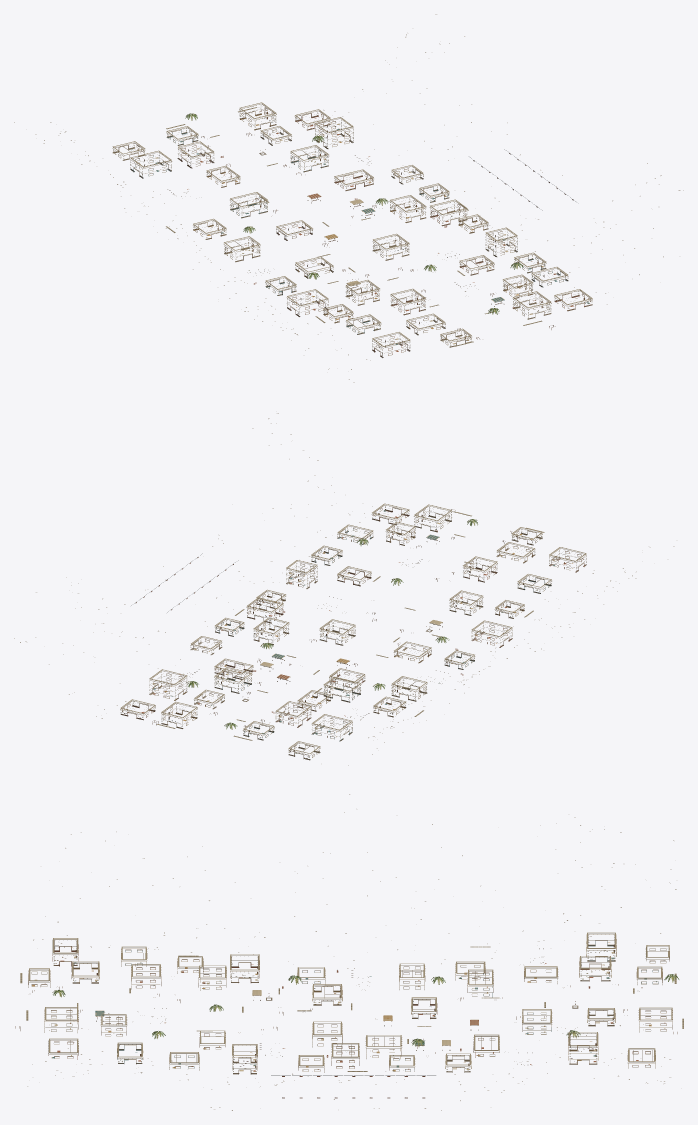
The model's file is detail.glb.
3 renders of one model, top to bottom at view 1: azimuth 30°, elevation 25°; view 2: azimuth 150°, elevation 25°; view 3: azimuth 270°, elevation 25°, orthographic. The views are drawn at different scales.
Visible parts, largest first — view 1: Detail 00 -2 concrete, Detail -1 -2 concrete, Detail -1 01 concrete, Detail -1 00 concrete, Detail -1 02 concrete, Detail -1 -1 concrete, Detail 00 02 concrete, Detail 00 00 concrete, Detail 00 -3 concrete, Detail 01 00 concrete, Detail 00 01 concrete; view 2: Detail 00 -2 concrete, Detail -1 -2 concrete, Detail -1 01 concrete, Detail -1 00 concrete, Detail -1 02 concrete, Detail -1 -1 concrete, Detail 00 02 concrete, Detail 00 00 concrete, Detail 00 -3 concrete, Detail 00 01 concrete, Detail 01 00 concrete; view 3: Detail -1 -2 concrete, Detail 00 -2 concrete, Detail -1 01 concrete, Detail -1 00 concrete, Detail -1 02 concrete, Detail -1 -1 concrete, Detail 00 02 concrete, Detail 00 -3 concrete, Detail 00 00 concrete, Detail 01 00 concrete, Detail 01 01 concrete, Detail 01 -1 concrete (+2 smaller).
Part boxes in pixels (left/top/right/bottom): Detail 00 -2 concrete: left=259, top=117, right=373, bottom=190; Detail -1 -2 concrete: left=130, top=141, right=269, bottom=218; Detail -1 01 concrete: left=323, top=280, right=438, bottom=334; Detail -1 00 concrete: left=265, top=254, right=398, bottom=316; Detail -1 02 concrete: left=372, top=313, right=473, bottom=357; Detail -1 -1 concrete: left=193, top=204, right=329, bottom=275; Detail 00 02 concrete: left=485, top=289, right=592, bottom=325; Detail 00 00 concrete: left=372, top=199, right=467, bottom=260; Detail 00 -3 concrete: left=238, top=102, right=330, bottom=130; Detail 01 00 concrete: left=458, top=214, right=517, bottom=256; Detail 00 01 concrete: left=457, top=255, right=533, bottom=298; Detail 00 -2 concrete: left=149, top=658, right=267, bottom=709; Detail -1 -2 concrete: left=275, top=676, right=361, bottom=741; Detail -1 01 concrete: left=449, top=556, right=551, bottom=618; Detail -1 00 concrete: left=376, top=607, right=512, bottom=669; Detail -1 02 concrete: left=496, top=527, right=586, bottom=572; Detail -1 -1 concrete: left=329, top=668, right=442, bottom=717; Detail 00 02 concrete: left=371, top=503, right=471, bottom=537; Detail 00 00 concrete: left=246, top=597, right=367, bottom=645; Detail 00 -3 concrete: left=120, top=699, right=210, bottom=728; Detail 00 01 concrete: left=337, top=522, right=419, bottom=586; Detail 01 00 concrete: left=256, top=560, right=317, bottom=608; Detail -1 -2 concrete: left=467, top=932, right=616, bottom=998; Detail 00 -2 concrete: left=473, top=1002, right=615, bottom=1065; Detail -1 01 concrete: left=121, top=946, right=226, bottom=997; Detail -1 00 concrete: left=230, top=954, right=352, bottom=1012; Detail -1 02 concrete: left=20, top=938, right=99, bottom=987; Detail -1 -1 concrete: left=358, top=961, right=485, bottom=1018; Detail 00 02 concrete: left=26, top=1003, right=78, bottom=1058; Detail 00 -3 concrete: left=627, top=1007, right=683, bottom=1068; Detail 00 00 concrete: left=238, top=1021, right=359, bottom=1068; Detail 01 00 concrete: left=232, top=1044, right=336, bottom=1074; Detail 01 01 concrete: left=117, top=1042, right=199, bottom=1069; Detail 01 -1 concrete: left=347, top=1053, right=471, bottom=1072.
Bounding box in the file's own units: 262 × 69.13 × 333.
